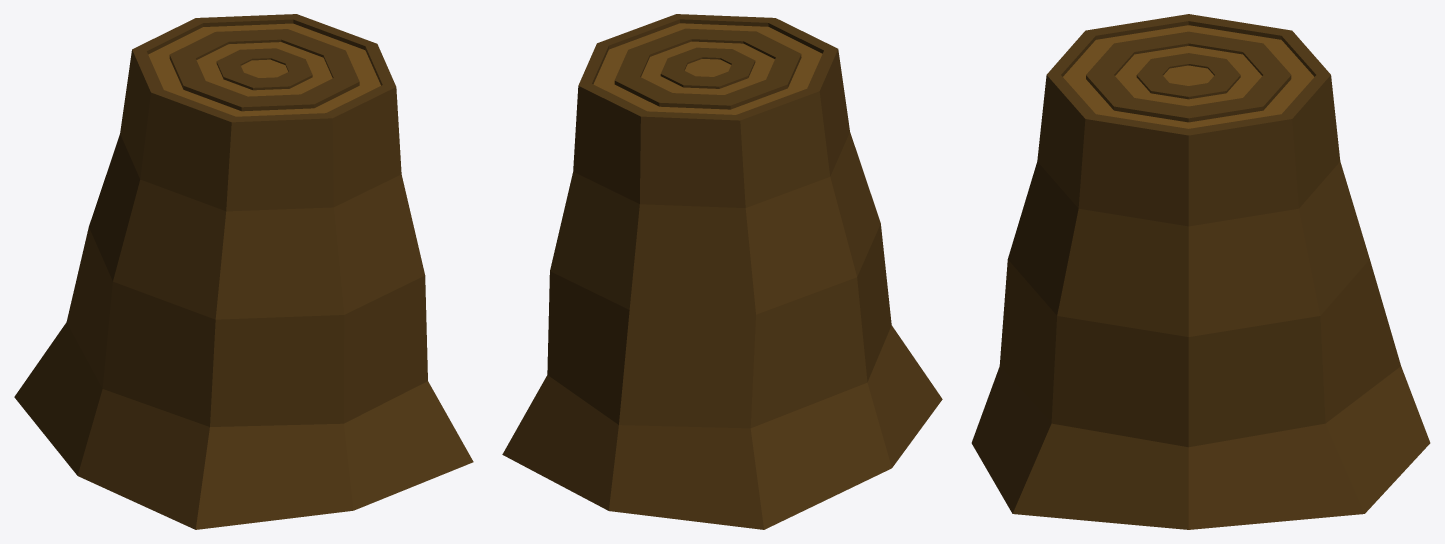
File: wooden-log-1.glb
3 renders of one model, left to right at view 1: azimuth 30°, elevation 25°; view 2: azimuth 150°, elevation 25°; view 3: azimuth 270°, elevation 25°, orthographic. The views are drawn at different scales.
Parts seen in each view (by area): view 1: Woden log; view 2: Woden log; view 3: Woden log.
Boxes of the visible parts, x1,y1,x2,y2 form: Woden log: (14, 14, 473, 529); Woden log: (502, 14, 942, 529); Woden log: (971, 14, 1430, 529).
Bounding box in the file's own units: 1.65 × 1.69 × 1.85.
